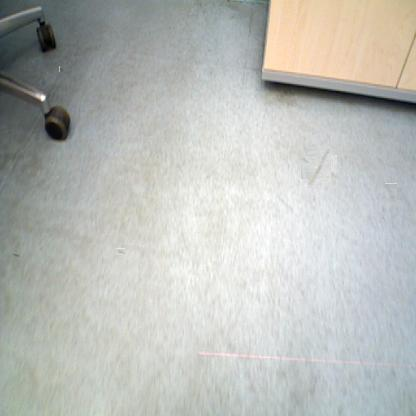mark: (304, 152, 334, 182), (383, 186, 400, 202), (116, 248, 125, 256), (12, 251, 20, 259), (59, 66, 64, 72)
